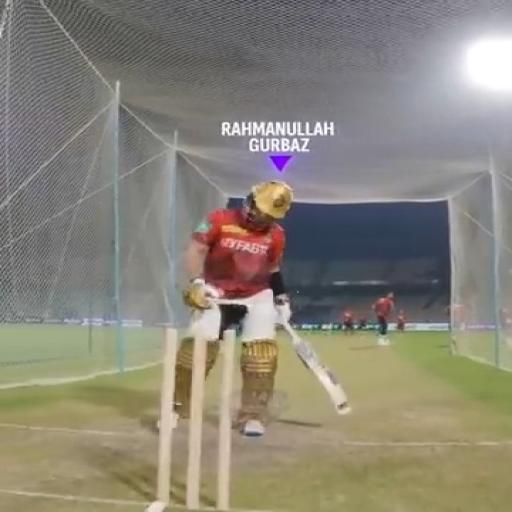Cricket bat: (282, 317, 347, 413), (212, 298, 242, 304)
